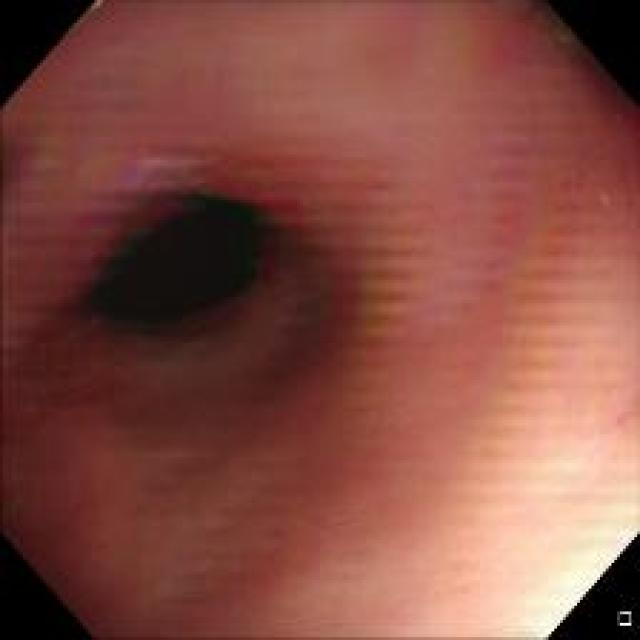blur: (24, 68, 476, 530)
color misalignment: (354, 221, 406, 346), (89, 221, 150, 281)
contrast: (79, 186, 269, 332)
saturation: (446, 485, 635, 634)
